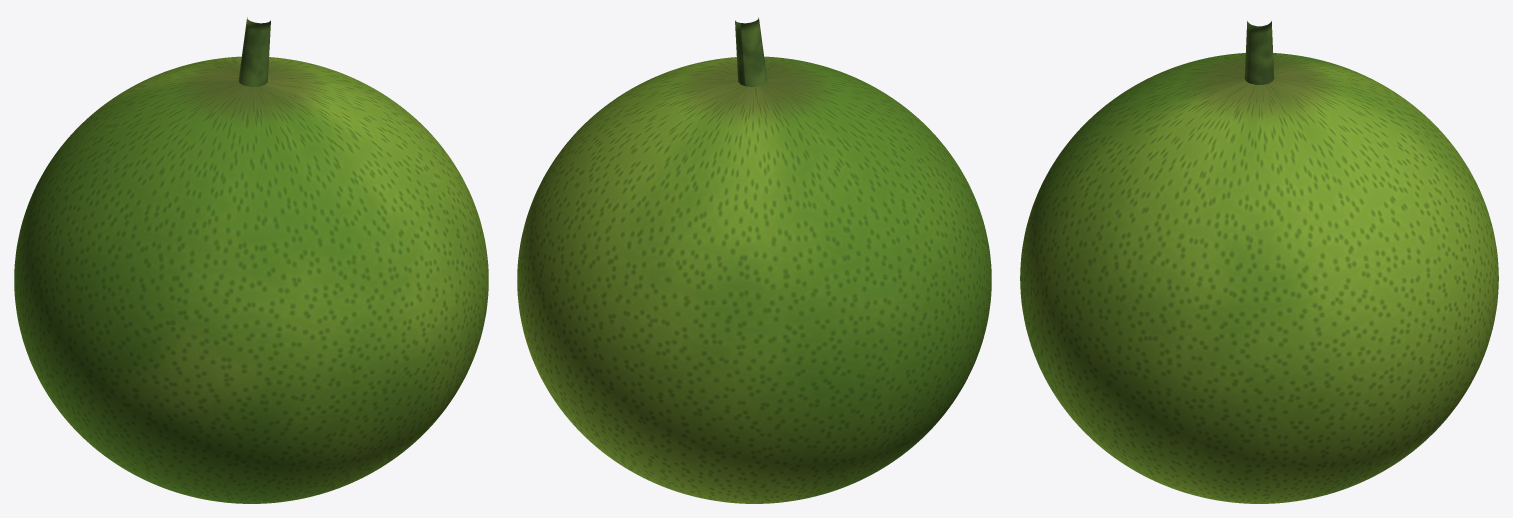
Rendered from citron-galet.glb.
The picture shows the model from 3 angles, left to right: view 1: azimuth 30°, elevation 25°; view 2: azimuth 150°, elevation 25°; view 3: azimuth 270°, elevation 25°; orthographic projection.
Visible parts, largest first — view 1: entier_peau, moitie_A_peau, moitie_B_peau, entier_extra0; view 2: entier_peau, moitie_B_peau, moitie_A_peau, entier_extra0; view 3: entier_peau, moitie_A_peau, moitie_B_peau, entier_extra0.
Boxes of the visible parts, x1,y1,x2,y2 form: entier_peau: [14, 56, 488, 503]; moitie_A_peau: [49, 74, 488, 503]; moitie_B_peau: [14, 56, 383, 444]; entier_extra0: [238, 17, 270, 86]; entier_peau: [517, 56, 991, 503]; moitie_B_peau: [517, 74, 956, 503]; moitie_A_peau: [622, 56, 991, 444]; entier_extra0: [735, 17, 767, 86]; entier_peau: [1020, 53, 1498, 503]; moitie_A_peau: [1020, 53, 1258, 503]; moitie_B_peau: [1260, 53, 1498, 503]; entier_extra0: [1244, 21, 1274, 84].
Size of the model in its own units: 0.043 by 0.0461 by 0.043.
Materials: 3 (3 with a texture image).
